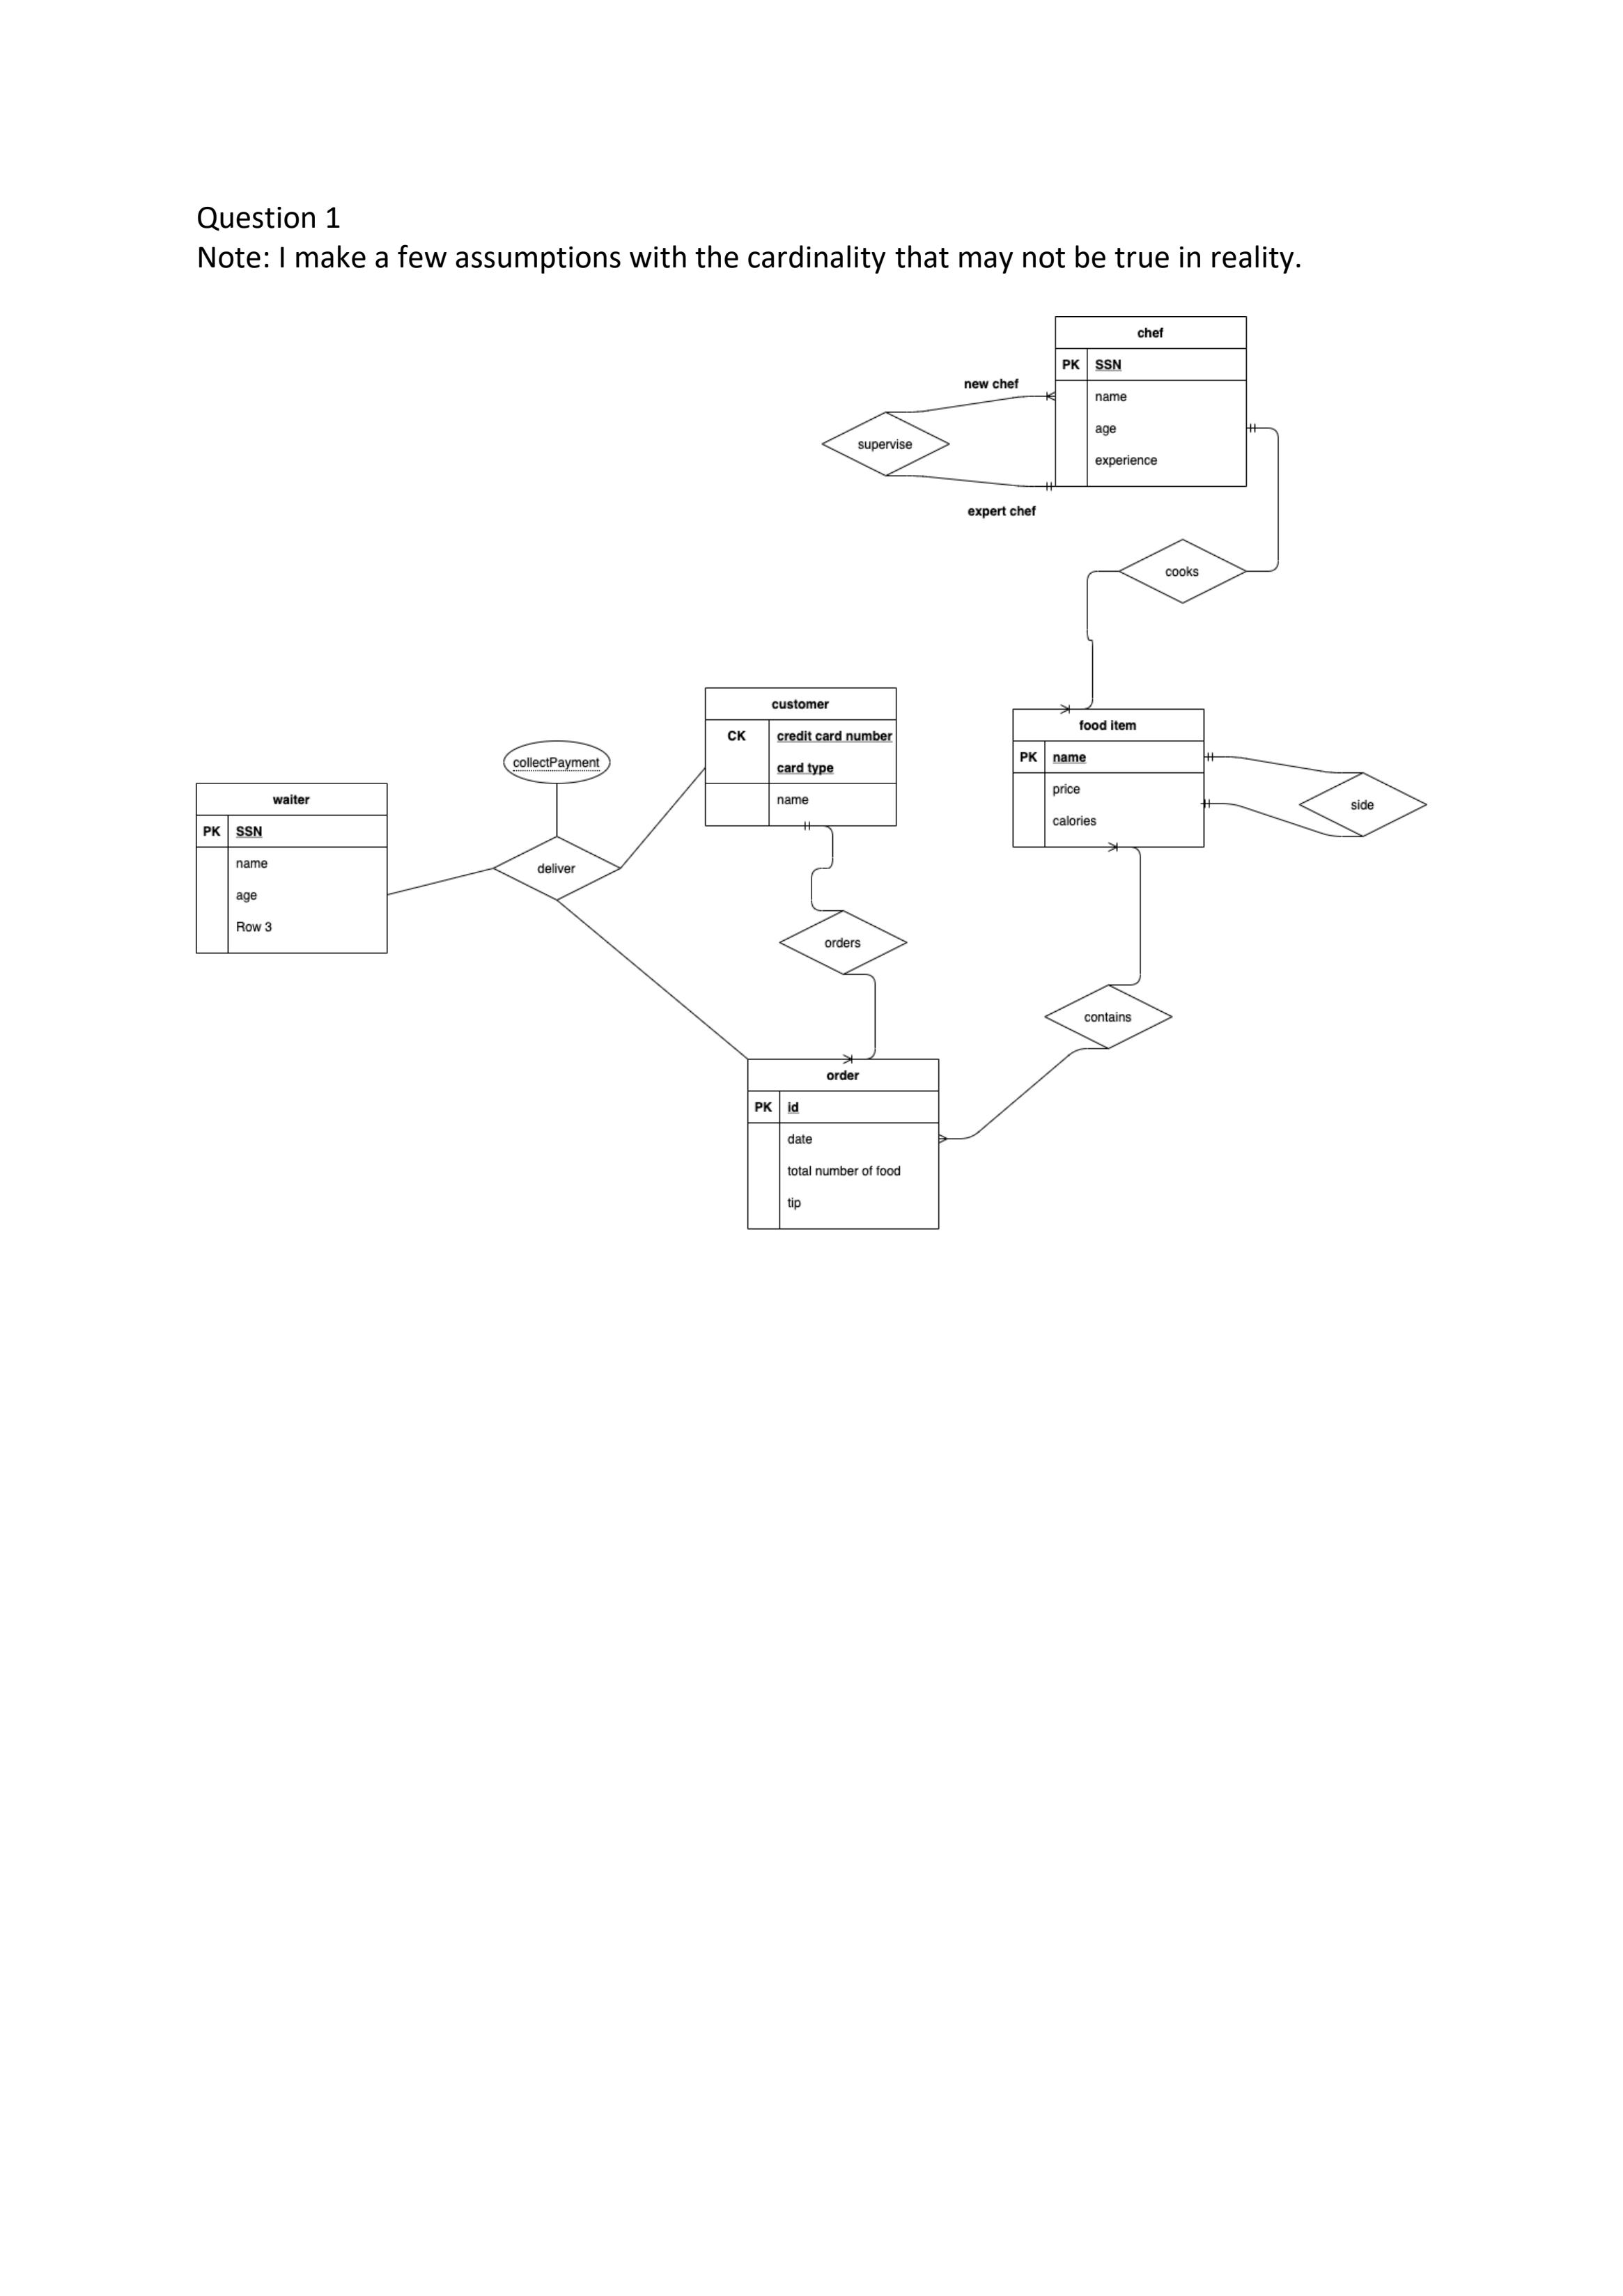Attribute: (504, 732, 608, 788)
Entity: (1045, 314, 1252, 499), (188, 779, 393, 964), (738, 1053, 941, 1234), (699, 681, 903, 836), (1005, 702, 1210, 855)
Relationship: (1300, 765, 1426, 843), (1119, 537, 1245, 607), (1045, 985, 1172, 1053), (822, 411, 954, 476), (782, 911, 910, 974), (495, 837, 622, 897)
